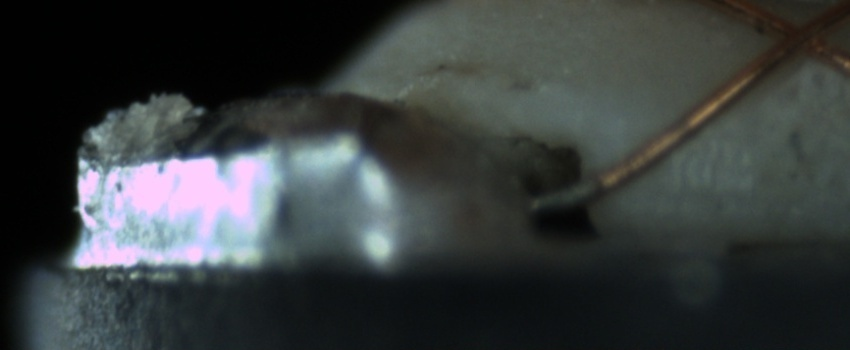CL: (750, 2, 844, 70)
TS: (532, 175, 601, 210)
